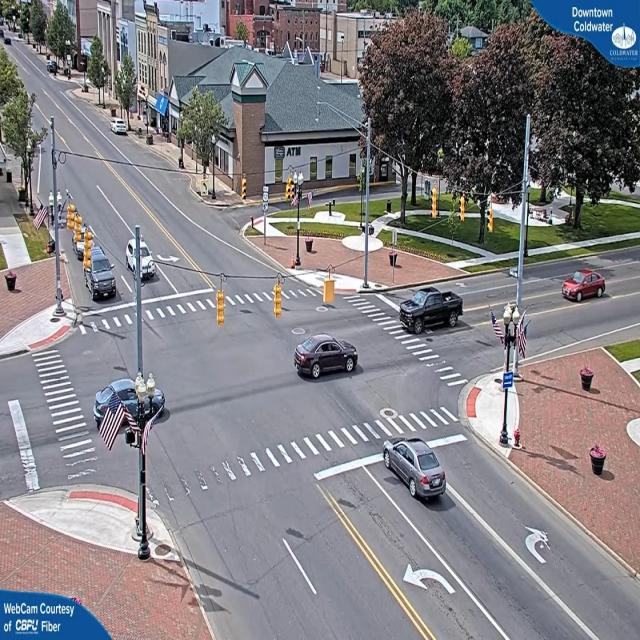car: (384, 437, 449, 502), (292, 337, 358, 382), (402, 286, 464, 330), (82, 242, 116, 298), (562, 269, 608, 304), (127, 233, 156, 279), (112, 121, 130, 138)
